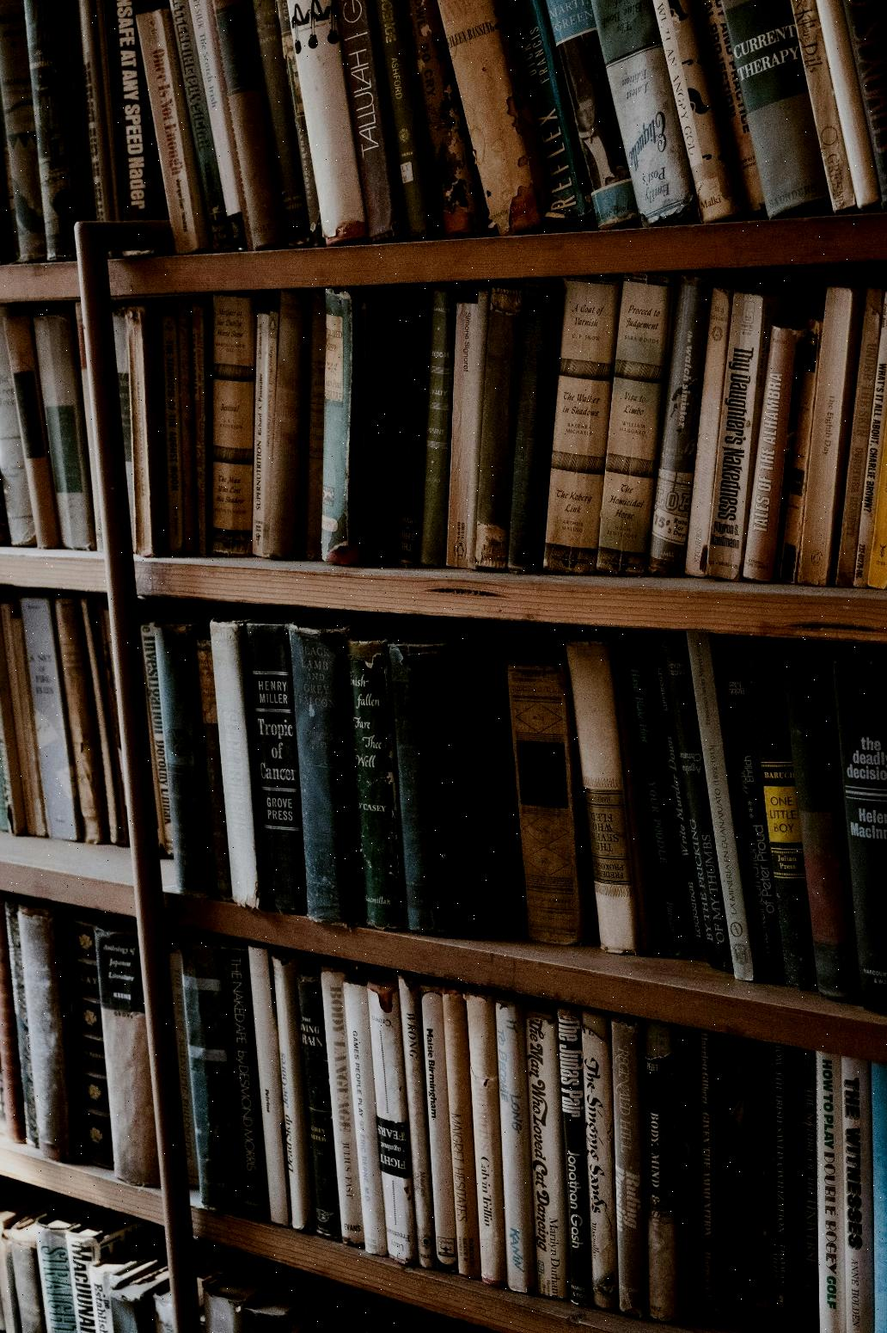book: (779, 648, 858, 1001), (426, 0, 541, 237), (707, 290, 799, 583), (579, 0, 693, 228), (595, 273, 673, 577), (508, 657, 590, 945), (710, 641, 780, 976), (653, 640, 726, 961), (390, 640, 469, 935), (540, 277, 616, 579), (175, 0, 259, 247), (795, 287, 864, 586), (830, 657, 887, 1018), (619, 642, 685, 952), (288, 629, 355, 919), (466, 647, 530, 937), (132, 0, 206, 250), (776, 0, 863, 206), (95, 919, 161, 1190), (687, 0, 768, 217), (244, 623, 306, 906), (177, 944, 240, 1211), (21, 0, 86, 258), (327, 0, 398, 236), (507, 280, 563, 573), (150, 622, 212, 884), (679, 287, 735, 576), (208, 625, 266, 904), (124, 301, 188, 553), (242, 0, 309, 240), (349, 642, 402, 929), (474, 283, 525, 572), (31, 313, 92, 548), (17, 904, 71, 1166), (18, 603, 82, 821), (54, 603, 115, 827), (369, 976, 414, 1270), (360, 287, 407, 564), (221, 950, 268, 1224), (644, 1022, 687, 1312), (210, 295, 258, 554), (341, 975, 384, 1263), (0, 0, 48, 257), (262, 295, 308, 557), (271, 954, 314, 1234), (294, 962, 337, 1240), (708, 1033, 750, 1311), (397, 977, 435, 1278), (319, 968, 359, 1253), (420, 986, 458, 1285), (419, 284, 459, 566), (64, 915, 108, 1168), (580, 1007, 617, 1304), (850, 291, 887, 588), (495, 996, 532, 1290), (445, 297, 485, 567), (441, 987, 477, 1283), (609, 1015, 644, 1312), (74, 0, 118, 236), (556, 1005, 591, 1298), (779, 1045, 818, 1307), (319, 289, 355, 559), (395, 291, 431, 560), (837, 1055, 872, 1326), (0, 314, 39, 544), (0, 607, 42, 820), (813, 1052, 844, 1324), (743, 1045, 775, 1305), (764, 1044, 793, 1305), (302, 292, 329, 557), (694, 1031, 718, 1310), (110, 310, 137, 545), (0, 894, 22, 1142), (0, 617, 13, 832)
